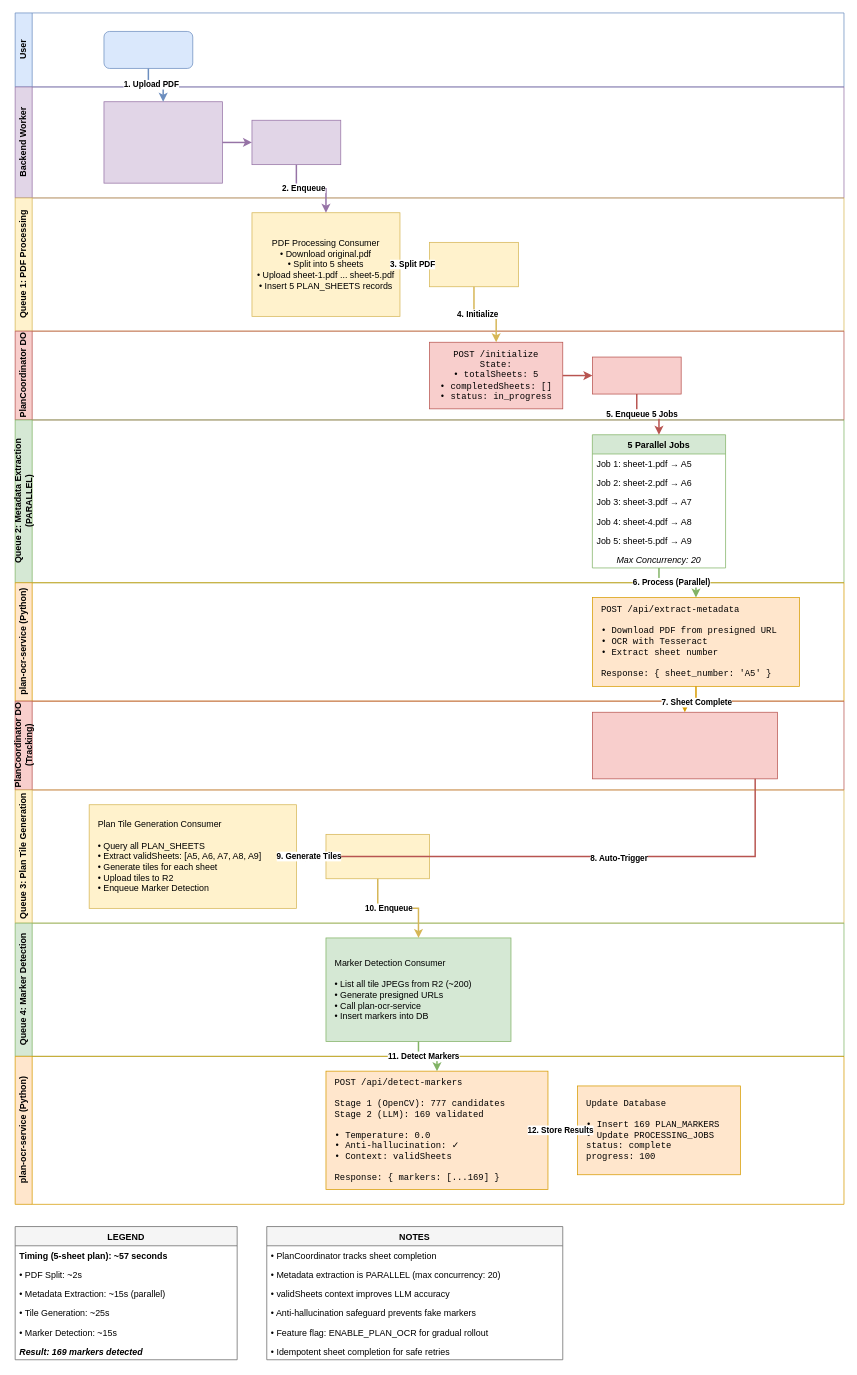
This 857x1375 diagram has some shape labels left out. Each missing label, with the centre of its shape:
"Enqueue 5 Metadata Jobs" goes at point (636, 375).
"Enqueue Marker Detection" goes at point (377, 856).
"Enqueue PDF Processing" goes at point (296, 142).
"Initialize PlanCoordinator" goes at point (473, 264).
"PlanService.create() • Generate IDs • Upload to R2 • Insert into D1" goes at point (162, 142).
"POST /sheet-complete completedSheets: [1,2,3,4,5] ✓ All 5 complete → Trigger Q3" goes at point (684, 745).
"Upload PDF (5-page plan)" goes at point (148, 49).
